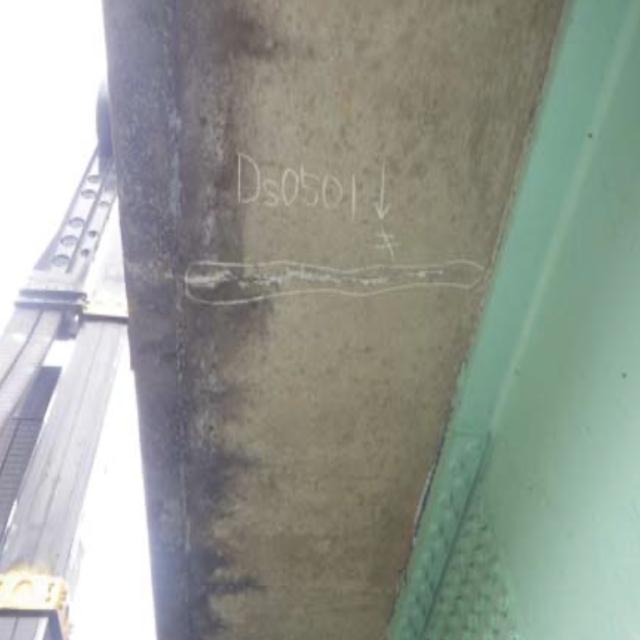freelime: (168, 252, 473, 298)
